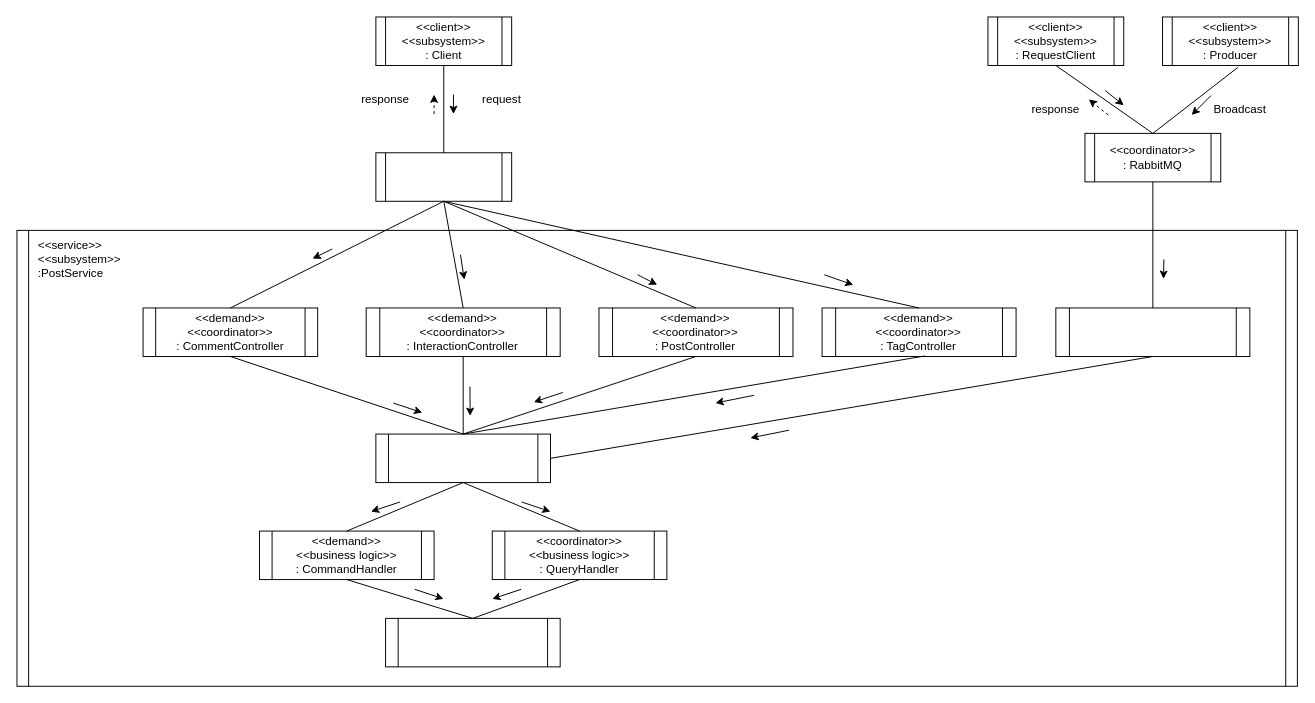
Image size: 1315x703. Some labels were removed from this diagram. The shapes that lost their labels are listed below. From the top down, each one's centre as x and y in pixels, then its label:
the point at 443,176: <<coordinator>> : APIGateway
the point at 1152,331: <<demand>> <<coordinator>> : Consumer
the point at 462,458: <<demand>> <<coordinator>> : Mediator
the point at 472,642: <<database wrapper>> : ApplicationDbContext
